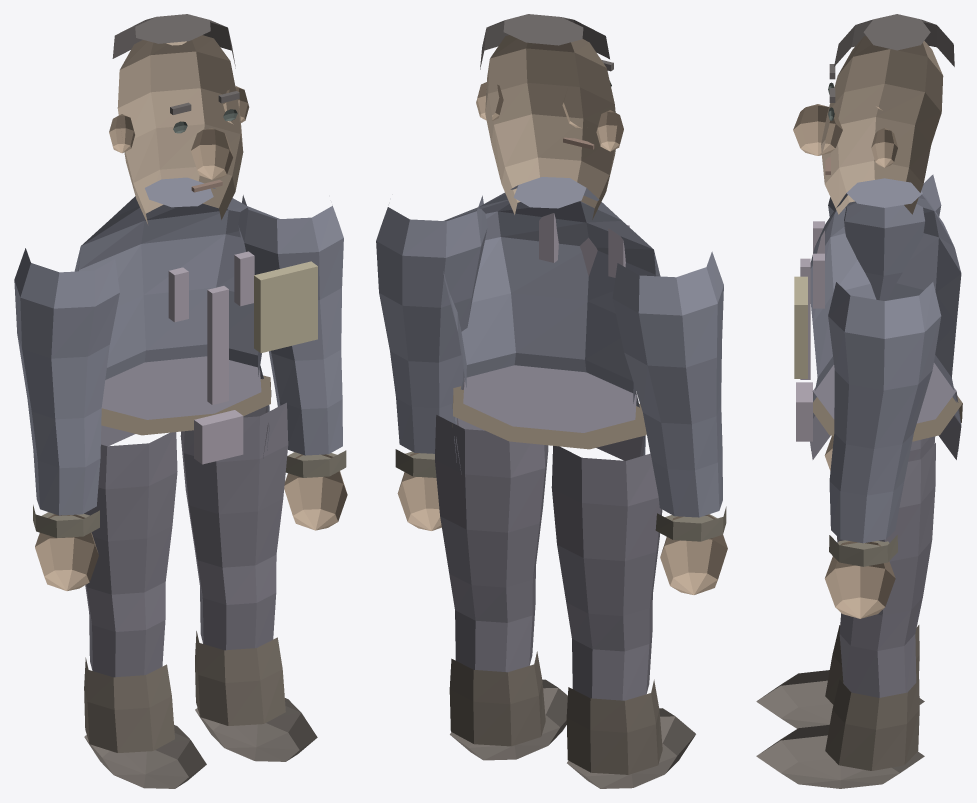
File: scholar_1000_2.glb
The picture shows the model from 3 angles, left to right: view 1: azimuth 30°, elevation 25°; view 2: azimuth 150°, elevation 25°; view 3: azimuth 270°, elevation 25°; orthographic projection. The views are drawn at different scales.
Visible parts, largest first — view 1: body_0, leftArm_0, rightLeg_0, leftLeg_0, head_0, rightArm_0, body_1, leftLeg_1, rightLeg_1, body_7, rightLeg_2, leftLeg_2 (+12 smaller); view 2: body_0, leftLeg_0, rightLeg_0, leftArm_0, rightArm_0, head_0, body_1, leftLeg_1, rightLeg_1, body_2, leftArm_2, head_9 (+8 smaller); view 3: rightArm_0, head_0, rightLeg_0, body_0, rightLeg_1, leftArm_0, rightLeg_2, rightArm_2, head_9, leftLeg_2, body_1, head_1 (+9 smaller).
Part boxes in pixels (x1,y1,x2,y2): body_0: (74,177,279,450); leftArm_0: (14,248,119,515); rightLeg_0: (180,402,288,650); leftLeg_0: (84,432,177,677); head_0: (117,35,243,223); rightArm_0: (238,195,343,455); body_1: (101,356,268,458); leftLeg_1: (84,657,174,752); rightLeg_1: (195,631,285,725); body_7: (254,261,317,353); rightLeg_2: (195,698,317,761); leftLeg_2: (84,725,206,788); body_0: (443,177,660,462); leftLeg_0: (551,446,662,700); rightLeg_0: (435,415,548,672); leftArm_0: (612,251,723,517); rightArm_0: (376,195,487,453); head_0: (485,35,615,219); body_1: (456,365,643,474); leftLeg_1: (566,679,662,774); rightLeg_1: (449,651,545,746); body_2: (452,386,646,449); leftArm_2: (660,514,727,594); head_9: (480,14,609,69); rightArm_0: (828,282,941,543); head_0: (821,36,943,214); rightLeg_0: (837,443,935,697); body_0: (810,178,961,450); rightLeg_1: (825,679,919,770); leftArm_0: (828,174,941,300); rightLeg_2: (756,725,924,788); rightArm_2: (824,541,895,618); head_9: (834,14,954,66); leftLeg_2: (756,670,924,728); body_1: (810,363,961,459); head_1: (793,104,842,155).
Size of the model in its own units: 0.774 by 1.66 by 0.431.
